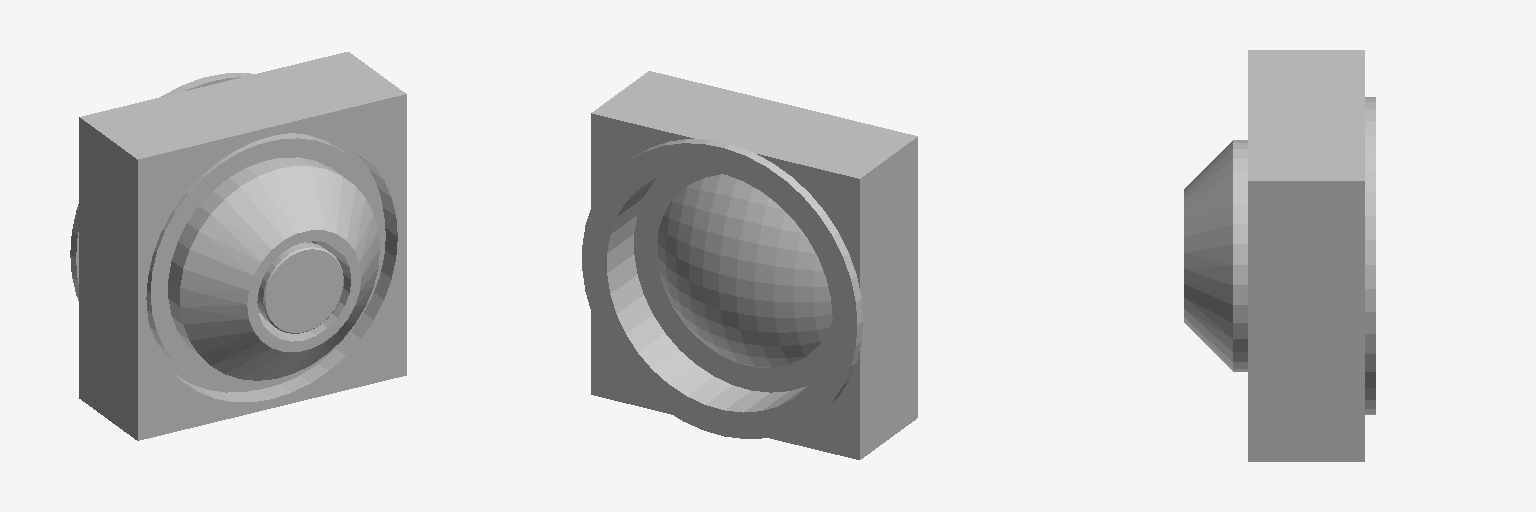
Rendered from Experimental XY stage moving piece with hole for condenser v16.obj.
The picture shows the model from 3 angles: view 1: azimuth 30°, elevation 25°; view 2: azimuth 150°, elevation 25°; view 3: azimuth 270°, elevation 25°; orthographic projection.
Visible parts, largest first — view 1: Body2, Body1, Body1:2; view 2: Body2, Body1, Body1:1; view 3: Body2, Body1.
Part boxes in pixels (x1,y1,x2,y2): Body2: (79, 52, 406, 440); Body1: (70, 73, 385, 392); Body1:2: (257, 242, 343, 333); Body2: (591, 71, 917, 459); Body1: (582, 139, 862, 438); Body1:1: (657, 174, 832, 367); Body2: (1248, 50, 1364, 461); Body1: (1184, 97, 1375, 414).
Bounding box in the file's own units: 4.09 × 4.1 × 2.48.